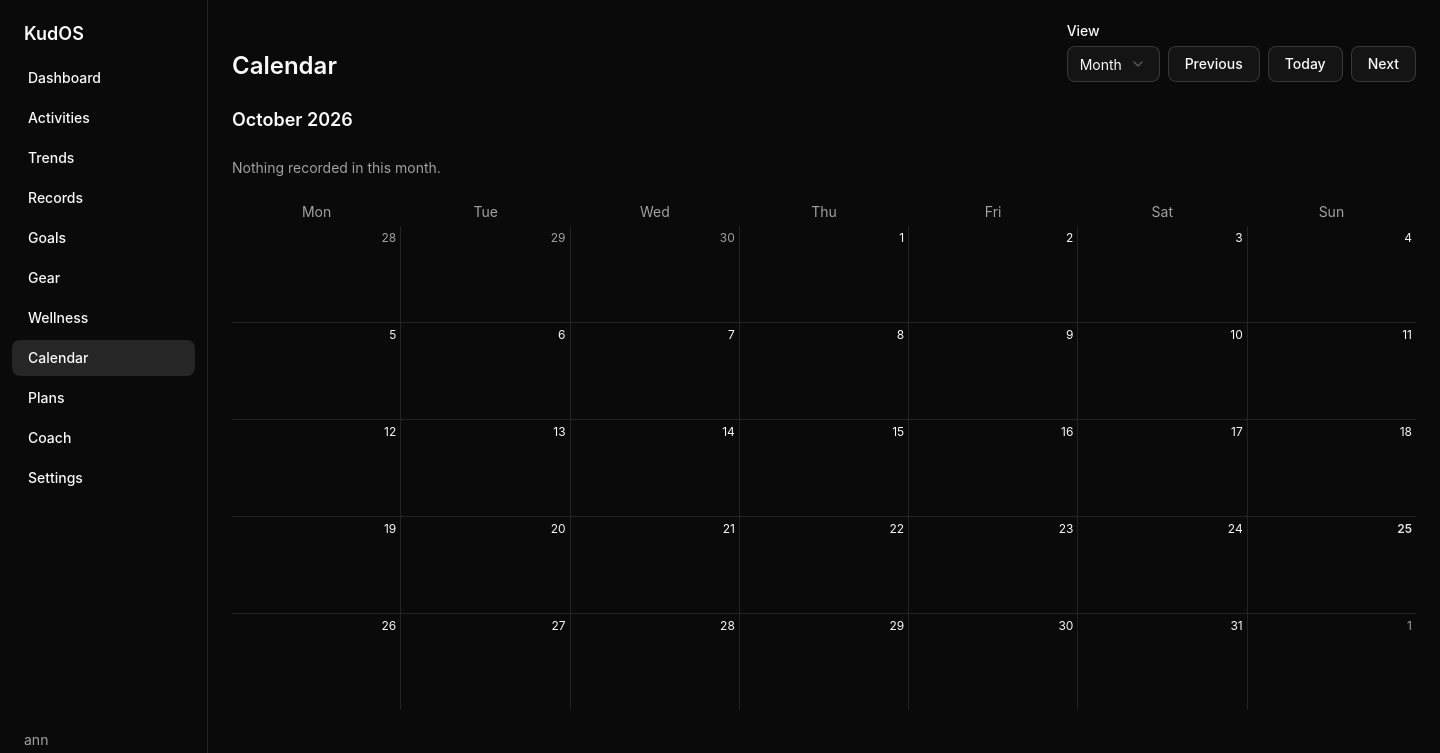
Test: CalendarPage › moves by month and week
Expected: the heading "October 2026" is shown, [232,109,353,130]
Click the button "Next" at [1383, 64], box [1351,46,1416,82]
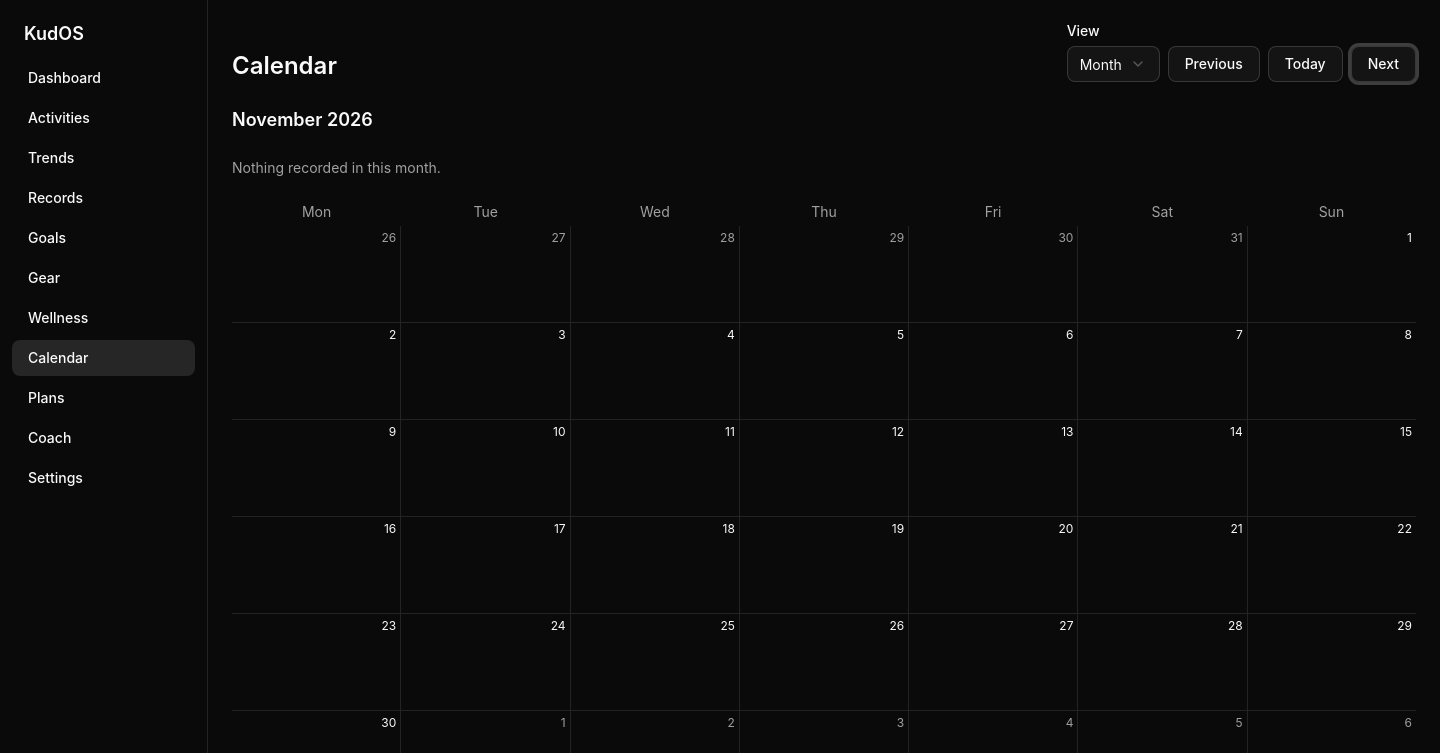
Result: the heading "November 2026" is shown at [232,109,373,130]
Click the button "Today" at [1305, 64], box [1268,46,1343,82]
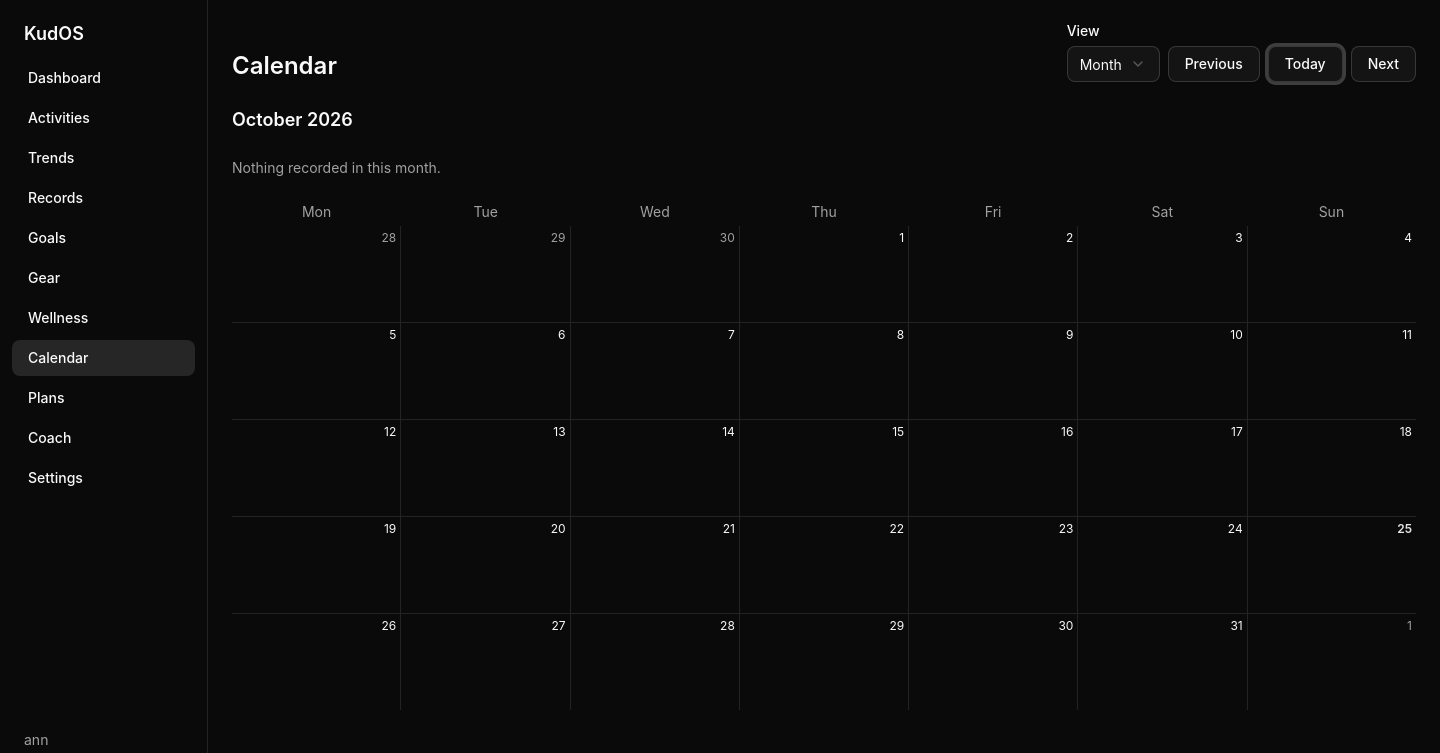
Select "Week" in the dropdown labelled "View" at [1113, 64], box [1067,46,1160,82]
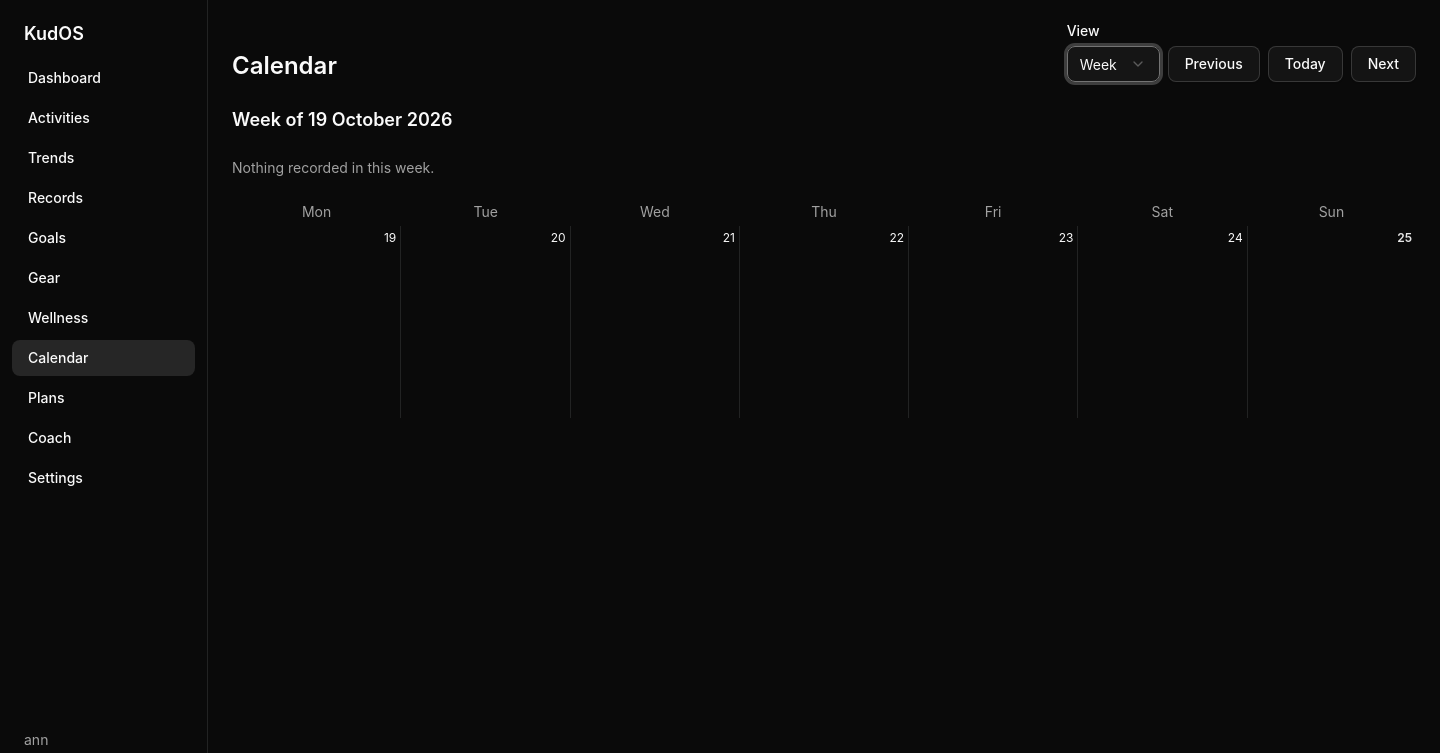
Result: the heading "Week of 19 October 2026" is shown at [232,109,452,130]
Result: the number of list items is 7
Click the button "Next" at [1383, 64], box [1351,46,1416,82]
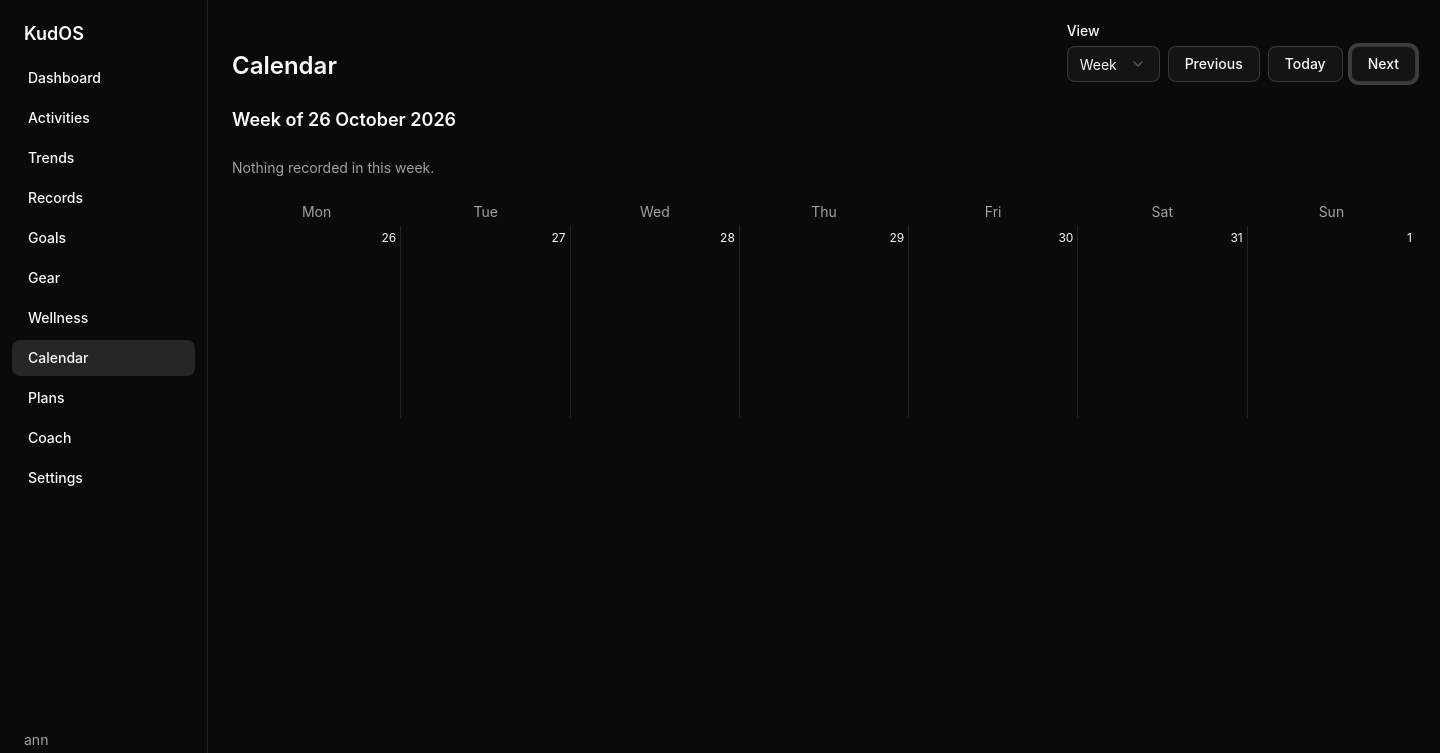
Result: the text "Nothing recorded in this week." is shown at [232,159,434,176]
Result: the heading "Week of 26 October 2026" is shown at [232,109,456,130]
